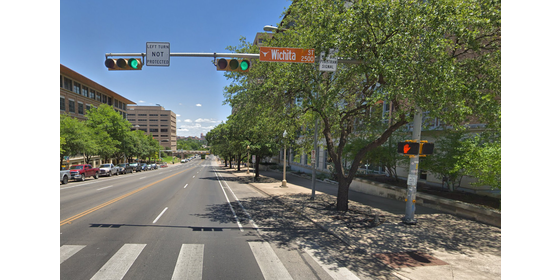bicyclists must use ped signal sign: (317, 37, 340, 76)
left turn not protected sign: (145, 40, 172, 68)
